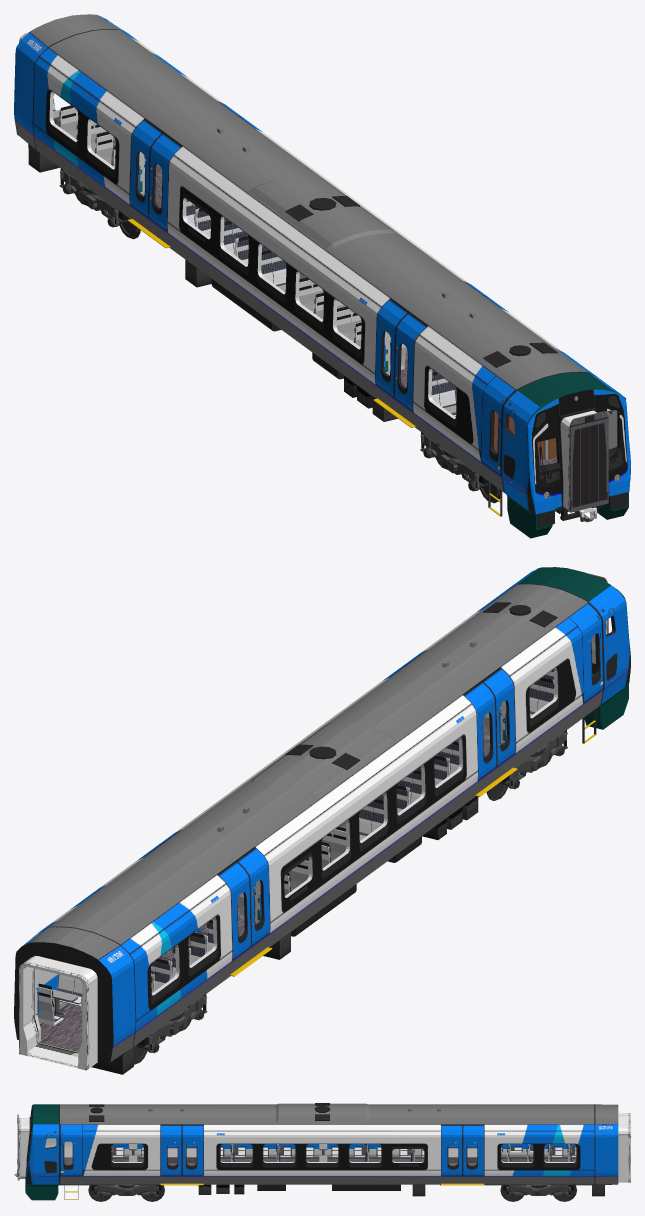
Rendered from wmt_class730_mc_lnwr.obj.
3 renders of one model, top to bottom at view 1: azimuth 30°, elevation 25°; view 2: azimuth 150°, elevation 25°; view 3: azimuth 270°, elevation 25°, orthographic. The views are drawn at different scales.
Visible parts, largest first — view 1: side, jibung, oscarchair, front, front_mak, door_RB, door_RF, dt71, habu, sadari, aircon, mak (+1 smaller); view 2: side, jibung, oscarchair, mak, door_RB, door_RF, dt71, backout, habu, floor, aircon, sadari; view 3: side, jibung, oscarchair, heater, dt71, door_LB, door_LF, habu, mak, floor, sadari, aircon (+4 smaller).
Boxes of the visible parts, <box> form: side: <box>14,16,619,513</box>; jibung: <box>30,14,624,423</box>; oscarchair: <box>53,93,456,416</box>; front: <box>527,389,630,514</box>; front_mak: <box>569,411,608,512</box>; door_RB: <box>129,133,396,411</box>; door_RF: <box>148,147,415,425</box>; dt71: <box>59,168,500,503</box>; habu: <box>28,144,561,508</box>; sadari: <box>488,481,628,538</box>; aircon: <box>217,127,557,367</box>; mak: <box>19,32,596,510</box>; side: <box>14,568,630,1062</box>; jibung: <box>30,567,625,959</box>; oscarchair: <box>37,669,554,1025</box>; mak: <box>19,620,607,1070</box>; door_RB: <box>229,696,496,974</box>; door_RF: <box>249,682,515,960</box>; dt71: <box>134,730,567,1064</box>; backout: <box>17,942,109,1061</box>; habu: <box>91,796,478,1074</box>; floor: <box>39,674,593,1052</box>; aircon: <box>217,602,557,832</box>; sadari: <box>582,683,628,743</box>; side: <box>26,1124,618,1184</box>; jibung: <box>31,1103,618,1136</box>; oscarchair: <box>111,1144,576,1161</box>; heater: <box>112,1144,576,1158</box>; dt71: <box>88,1184,576,1201</box>; door_LB: <box>182,1135,484,1183</box>; door_LF: <box>160,1135,462,1183</box>; habu: <box>58,1184,617,1196</box>; mak: <box>18,1113,630,1182</box>; floor: <box>64,1157,576,1165</box>; sadari: <box>25,1184,78,1200</box>; aircon: <box>89,1103,441,1121</box>.
Bounding box in the file's own units: 2.88 × 3.86 × 25.22.
36 materials, 35 textured.
